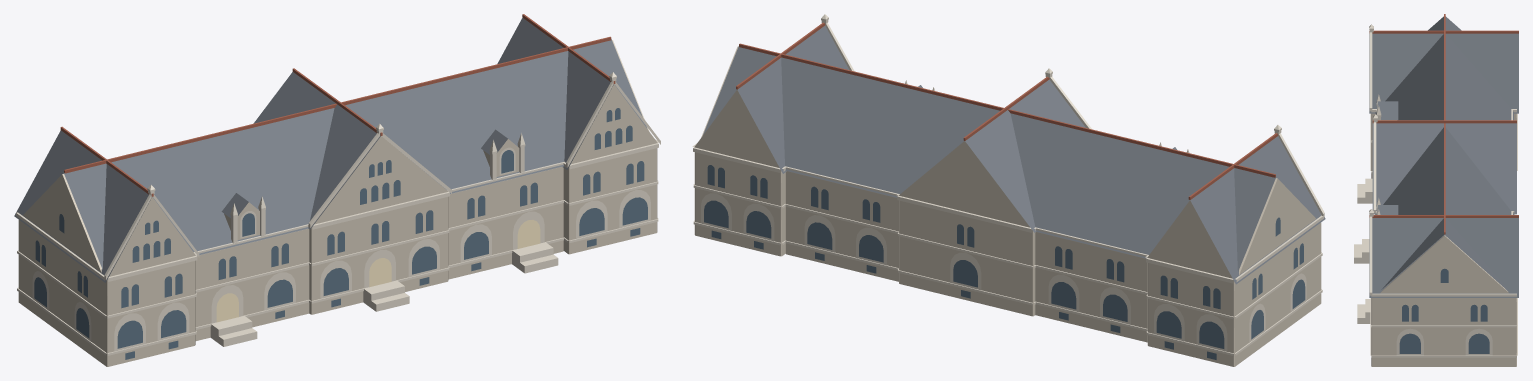
The model's file is nola-gibson-hall.glb.
The picture shows the model from 3 angles, left to right: view 1: azimuth 30°, elevation 25°; view 2: azimuth 150°, elevation 25°; view 3: azimuth 270°, elevation 25°; orthographic projection. The views are drawn at different scales.
Parts seen in each view (by area): view 1: Gibson Hall; view 2: Gibson Hall; view 3: Gibson Hall.
Part boxes in pixels (x1,y1,x2,y2): Gibson Hall: (14,14,660,366); Gibson Hall: (692,14,1325,366); Gibson Hall: (1354,14,1518,366).
Bounding box in the file's own units: 79.4 × 23.8 × 24.9.
